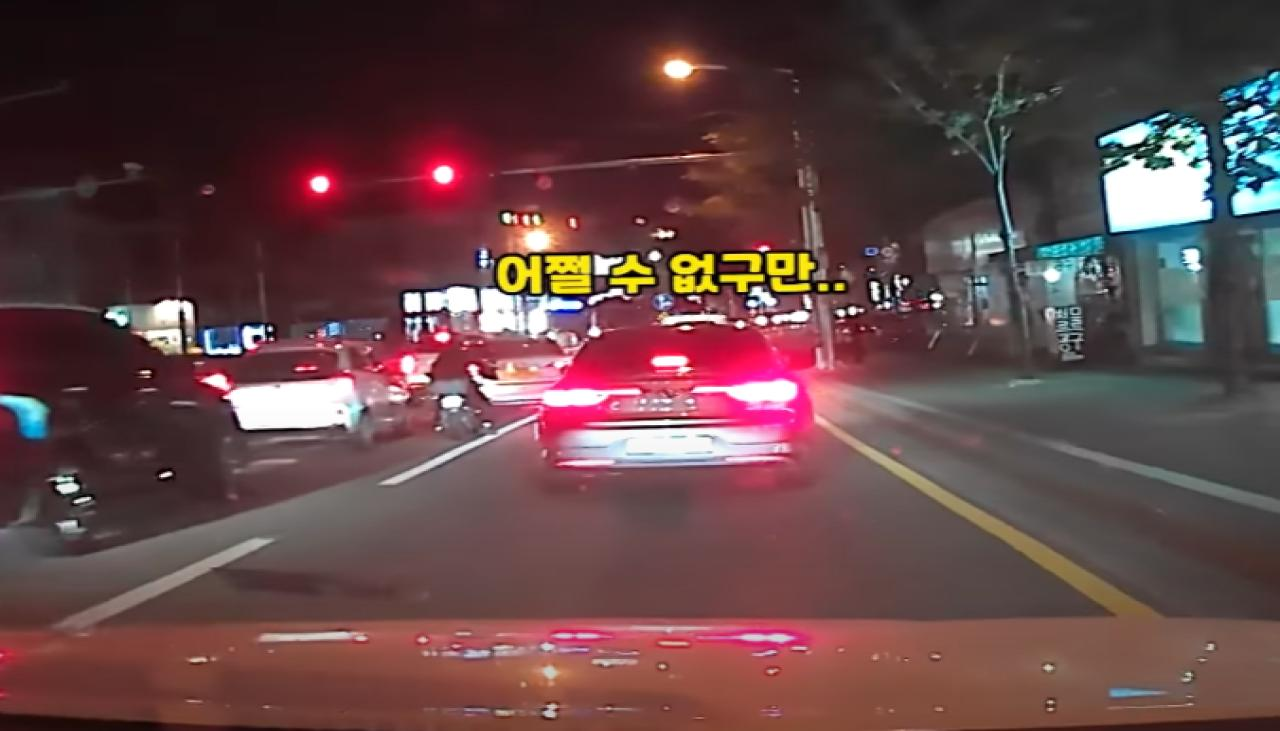Red Light: (304, 170, 335, 198), (428, 162, 458, 190)
